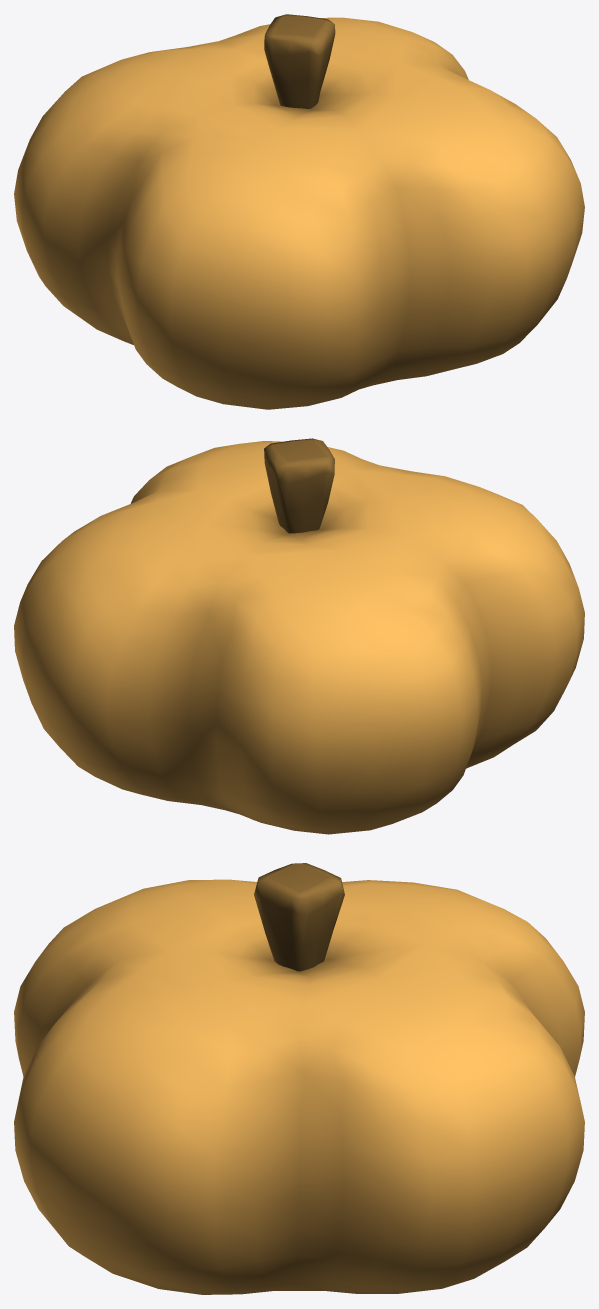
The model's file is plant_pumpkin_2.glb.
3 renders of one model, top to bottom at view 1: azimuth 30°, elevation 25°; view 2: azimuth 150°, elevation 25°; view 3: azimuth 270°, elevation 25°, orthographic. The views are drawn at different scales.
Parts seen in each view (by area): view 1: refined; view 2: refined; view 3: refined.
Boxes of the visible parts, x1,y1,x2,y2 form: refined: (14, 14, 584, 409); refined: (14, 438, 584, 834); refined: (14, 863, 584, 1294).
Bounding box in the file's own units: 0.9 × 0.6289 × 0.9.
